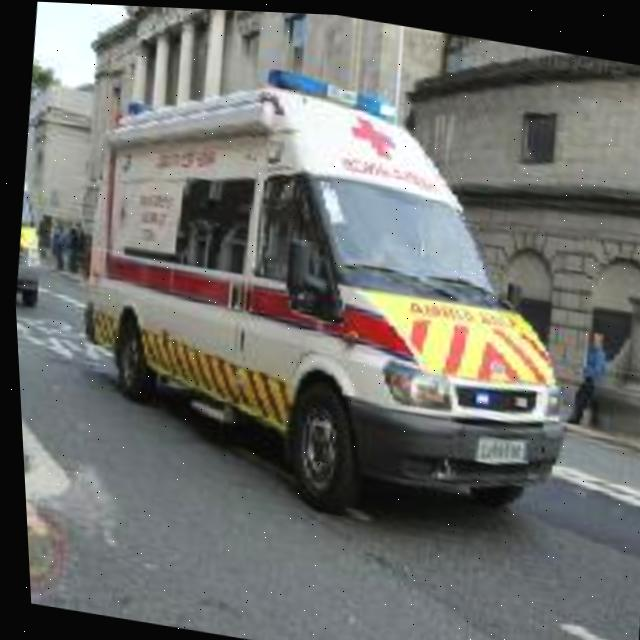emergency: (41, 24, 602, 552)
